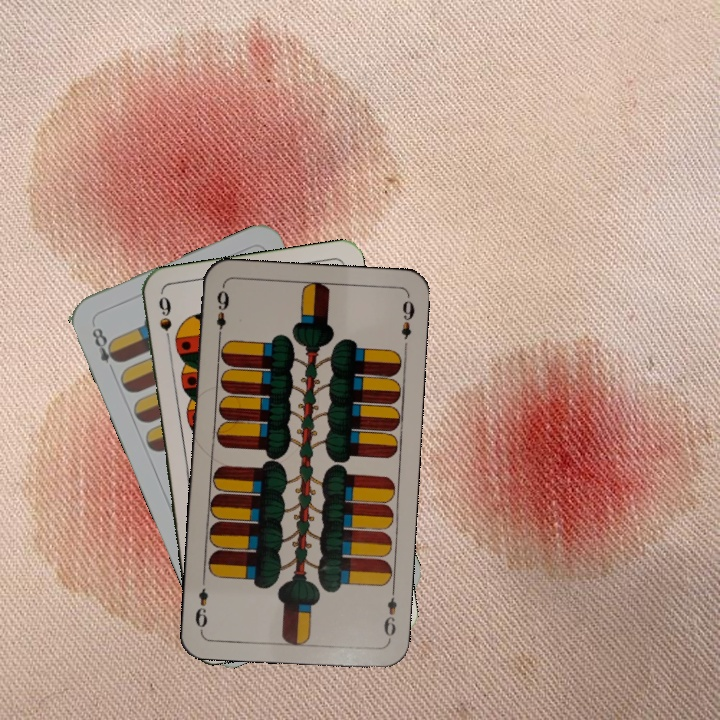E8: (88, 323, 123, 376)
E9: (379, 584, 400, 643), (213, 284, 232, 343)
S9: (154, 292, 174, 351)
